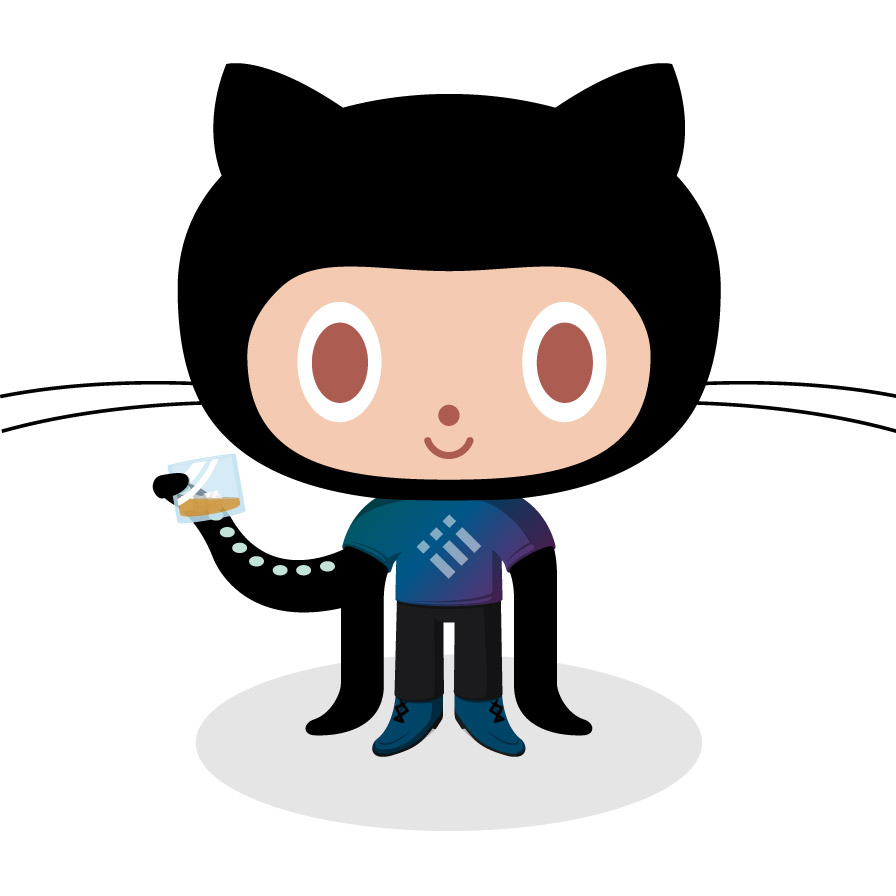orderedlisttocat: (151, 57, 730, 770)
